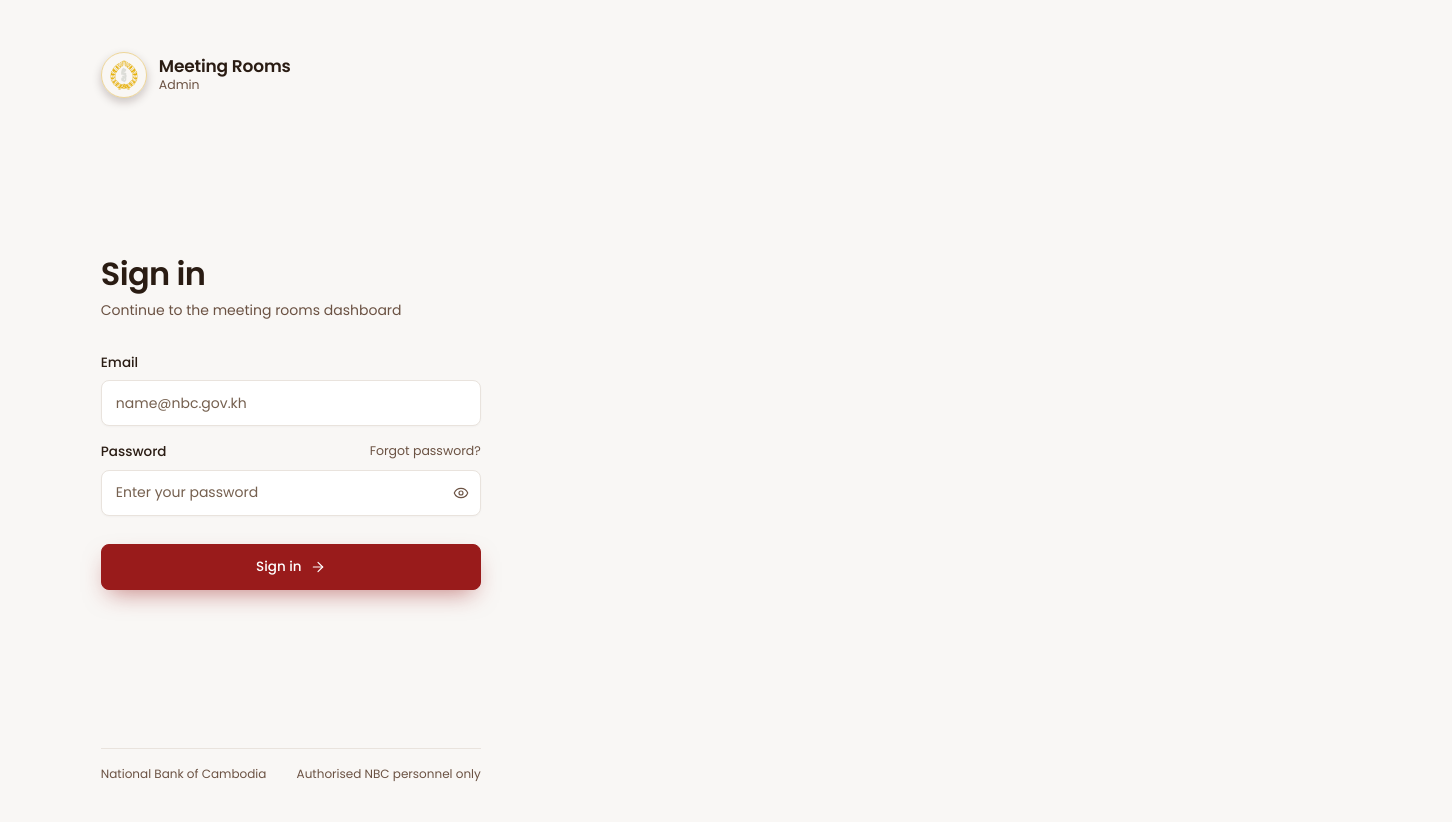
Test case: SignInView › says how many minutes to wait after too many tries
The image size is (1452, 822).
Type "admin@company.com" into the field with id "email" at (291, 403), box [101,380,481,426]
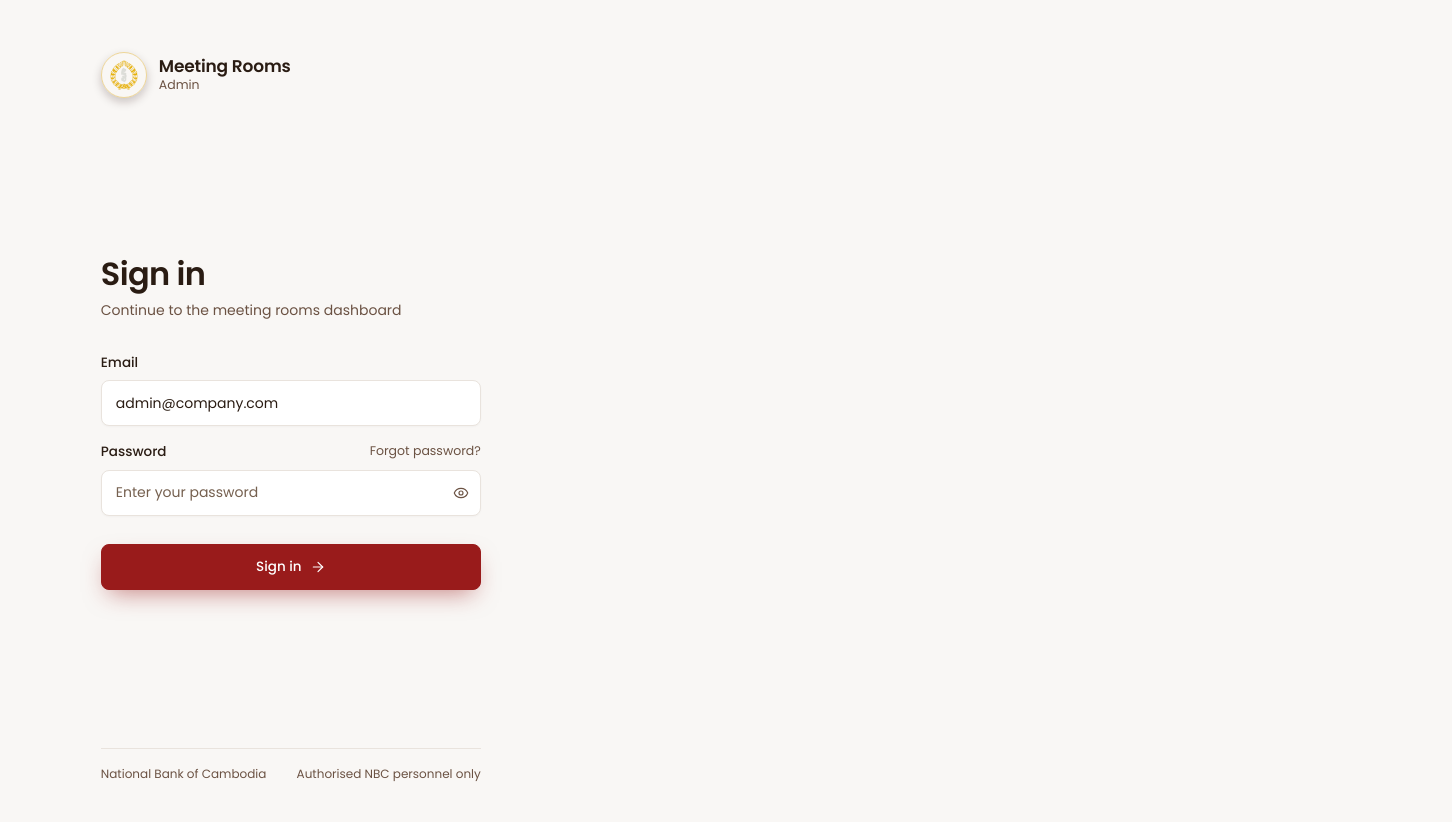
Type "bad" into the password field labelled "Password" at (291, 493), box [101,470,481,516]
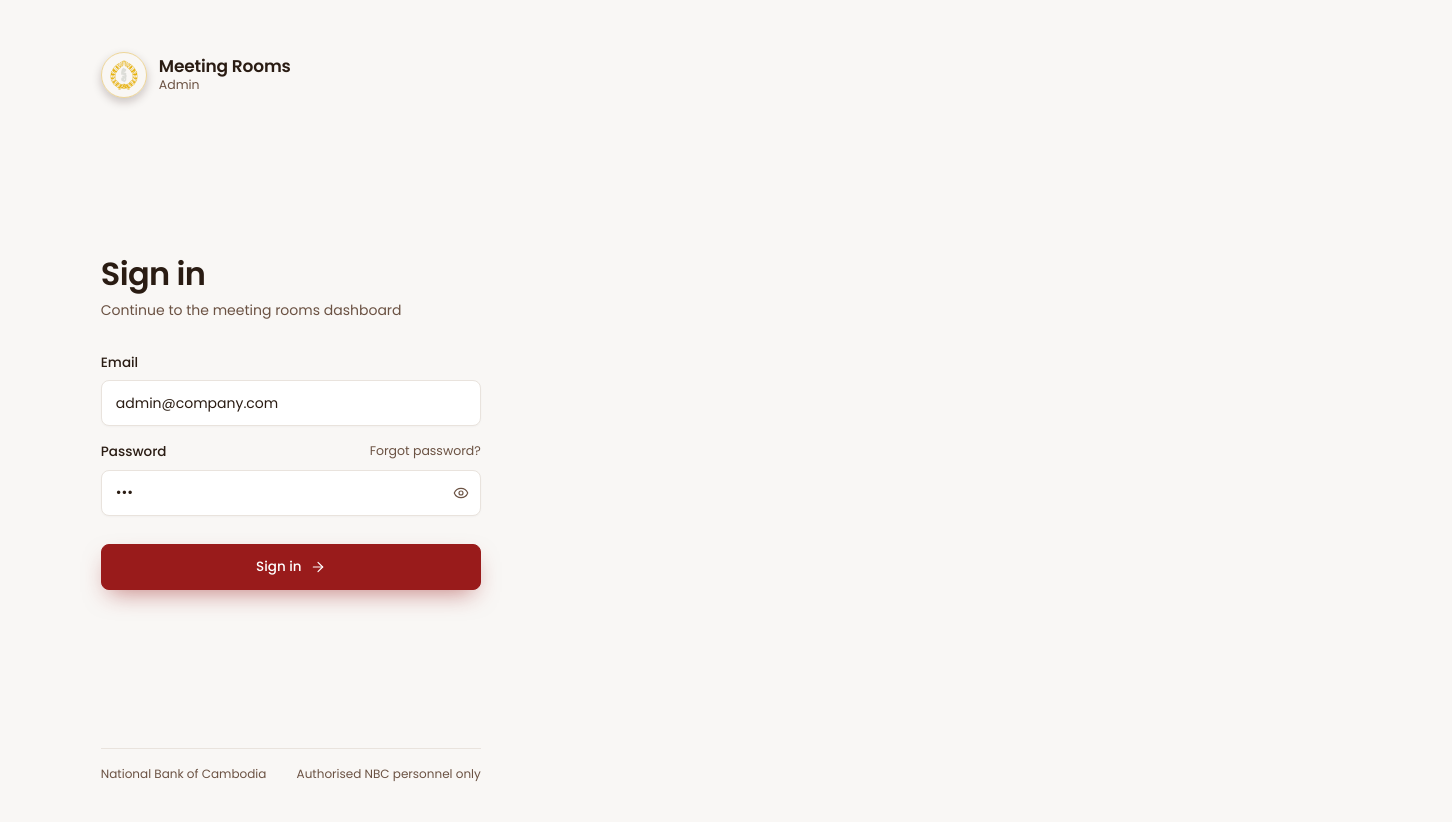
Submit the form, box [101,353,481,590]
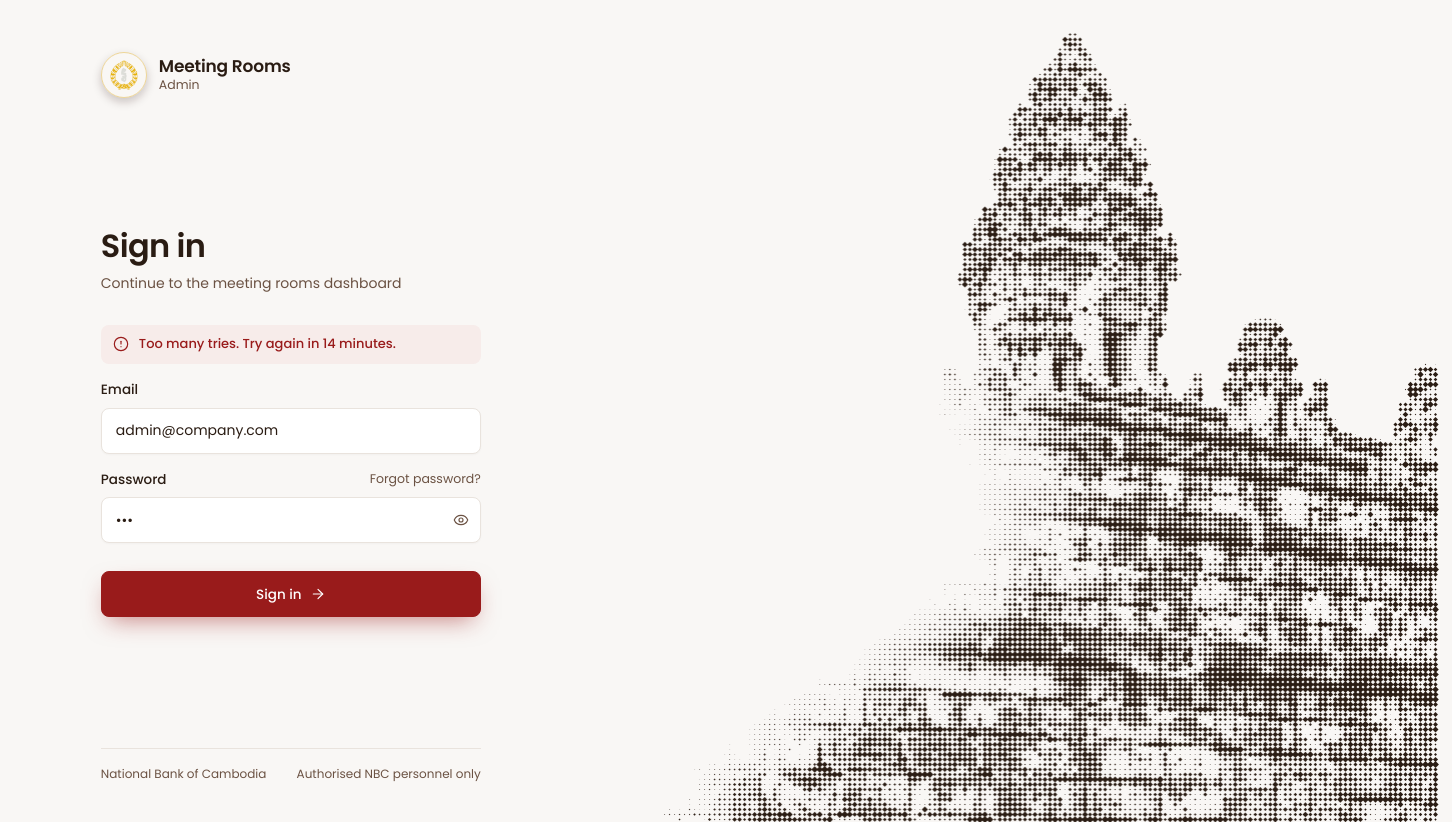
expect the message "Too many tries. Try again in 14 minutes." is shown: met, box [101,325,481,364]
